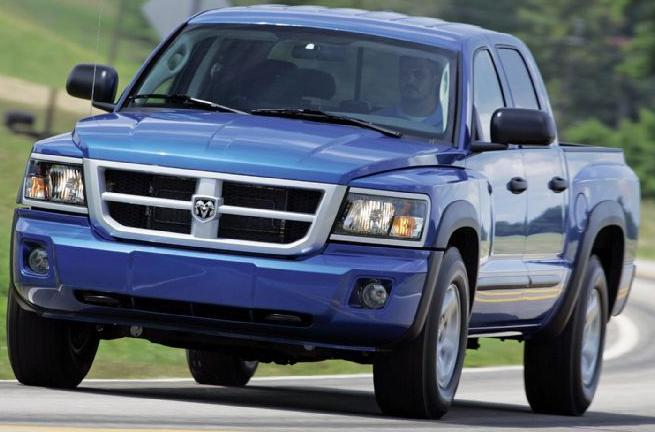front_view: (23, 142, 455, 348)
headlight: (317, 163, 445, 263)
side_glass: (452, 23, 560, 158)
